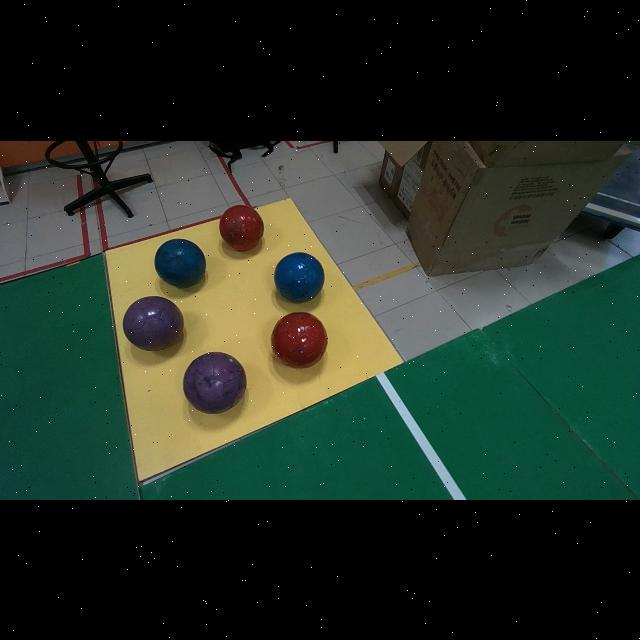B: (155, 238, 205, 287), (275, 251, 324, 301)
P: (184, 351, 246, 413), (123, 296, 184, 350)
R: (271, 312, 328, 368), (219, 206, 263, 250)
